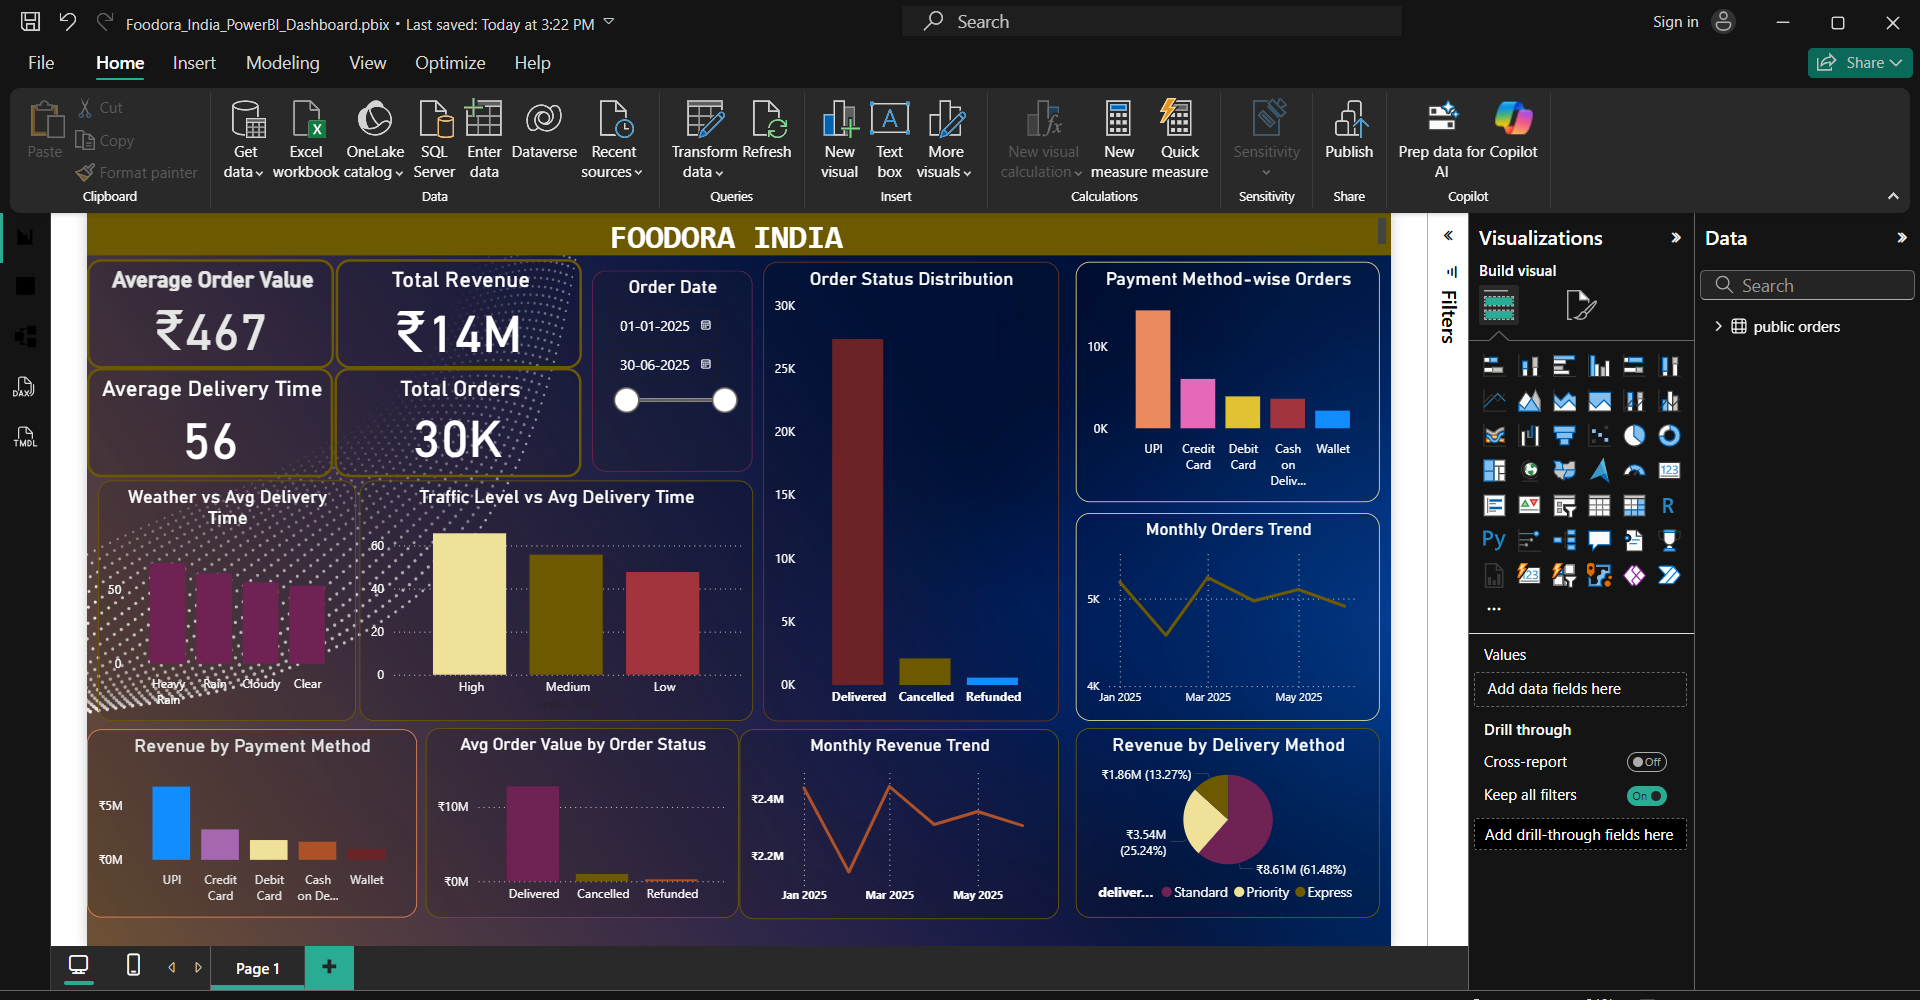

Layout of this report page (visuals, bound fields, positions):
{"tool":"powerbi","page":{"name":"Page 1","canvas":[1280,720],"ordinal":0},"visuals":[{"type":"card","title":"Total Orders","fields":{"Values":["CountNonNull(public orders.order_id)"]},"box":[242.5,152.5,242.5,107.5],"z":0},{"type":"card","title":"Total Revenue","fields":{"Values":["Sum(public orders.total_amount)"]},"box":[243.8,45,241.2,107.5],"z":1000},{"type":"card","title":"Average Delivery Time","fields":{"Values":["Avg(public orders.delivery_time_min)"]},"box":[0,152.5,241.2,107.5],"z":2000},{"type":"card","title":"Average Order Value","fields":{"Values":["Avg(public orders.total_amount)"]},"box":[0,45,242.5,107.5],"z":3000},{"type":"clusteredColumnChart","title":"Order Status Distribution","fields":{"Category":["public orders.order_status"],"Y":["CountNonNull(public orders.order_id)"]},"box":[663.8,47.5,290,451.2],"z":4000},{"type":"clusteredColumnChart","title":"Revenue by Payment Method","fields":{"Category":["public orders.payment_method"],"Y":["Sum(public orders.total_amount)"]},"box":[0,506.2,323.8,185],"z":5000},{"type":"clusteredColumnChart","title":"Payment Method-wise Orders","fields":{"Category":["public orders.payment_method"],"Y":["CountNonNull(public orders.order_id)"]},"box":[970,47.5,298.8,236.2],"z":6000},{"type":"pieChart","title":"Revenue by Delivery Method","fields":{"Category":["public orders.delivery_method"],"Y":["Sum(public orders.total_amount)"]},"box":[970,505,298.8,186.2],"z":7000},{"type":"lineChart","title":"Monthly Revenue Trend","fields":{"Y":["Sum(public orders.total_amount)"],"Category":["public orders.order_date.Variation.Date Hierarchy.Year","public orders.order_date.Variation.Date Hierarchy.Month"]},"box":[640,506.2,313.8,186.2],"z":8000},{"type":"lineChart","title":"Monthly Orders Trend","fields":{"Category":["public orders.order_date.Variation.Date Hierarchy.Year","public orders.order_date.Variation.Date Hierarchy.Month"],"Y":["CountNonNull(public orders.order_id)"]},"box":[970,295,298.8,203.8],"z":9000},{"type":"clusteredColumnChart","title":"Traffic Level vs Avg Delivery Time","fields":{"Category":["public orders.traffic_level"],"Y":["Avg(public orders.delivery_time_min)"]},"box":[267.5,262.5,386.2,236.2],"z":10000},{"type":"clusteredColumnChart","title":"Weather vs Avg Delivery Time","fields":{"Category":["public orders.weather"],"Y":["Avg(public orders.delivery_time_min)"]},"box":[11.2,262.5,252.5,236.2],"z":11000},{"type":"slicer","title":"Order Date","fields":{"Values":["public orders.order_date"]},"box":[496.2,56.2,157.5,197.5],"z":12000},{"type":"textbox","box":[0,0,1280,41.2],"z":13000},{"type":"clusteredColumnChart","title":"Avg Order Value by Order Status","fields":{"Y":["Sum(public orders.total_amount)"],"Category":["public orders.order_status"]},"box":[332.5,505,307.5,186.2],"z":13001}]}

Visuals, with their boxes on the page's 1280x720 design canvas (x1, y1, x2, y2). These are canvas units, not pixel positions in the 1920x1000 screenshot, which may show the page scaled, cropped or inside an application window:
"Total Orders" card: x1=242, y1=152, x2=485, y2=260
"Total Revenue" card: x1=244, y1=45, x2=485, y2=152
"Average Delivery Time" card: x1=0, y1=152, x2=241, y2=260
"Average Order Value" card: x1=0, y1=45, x2=242, y2=152
"Order Status Distribution" clusteredColumnChart: x1=664, y1=48, x2=954, y2=499
"Revenue by Payment Method" clusteredColumnChart: x1=0, y1=506, x2=324, y2=691
"Payment Method-wise Orders" clusteredColumnChart: x1=970, y1=48, x2=1269, y2=284
"Revenue by Delivery Method" pieChart: x1=970, y1=505, x2=1269, y2=691
"Monthly Revenue Trend" lineChart: x1=640, y1=506, x2=954, y2=692
"Monthly Orders Trend" lineChart: x1=970, y1=295, x2=1269, y2=499
"Traffic Level vs Avg Delivery Time" clusteredColumnChart: x1=268, y1=262, x2=654, y2=499
"Weather vs Avg Delivery Time" clusteredColumnChart: x1=11, y1=262, x2=264, y2=499
"Order Date" slicer: x1=496, y1=56, x2=654, y2=254
textbox: x1=0, y1=0, x2=1280, y2=41
"Avg Order Value by Order Status" clusteredColumnChart: x1=332, y1=505, x2=640, y2=691
